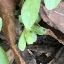Purslane: (15, 0, 64, 64), (0, 0, 14, 64)
